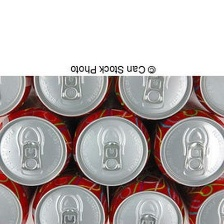can: (71, 105, 149, 186), (0, 107, 73, 188), (152, 108, 223, 187), (114, 69, 194, 120), (107, 176, 189, 224), (29, 175, 108, 223), (30, 75, 114, 118), (181, 178, 224, 224), (0, 73, 32, 124), (0, 169, 30, 223), (192, 75, 224, 119)
